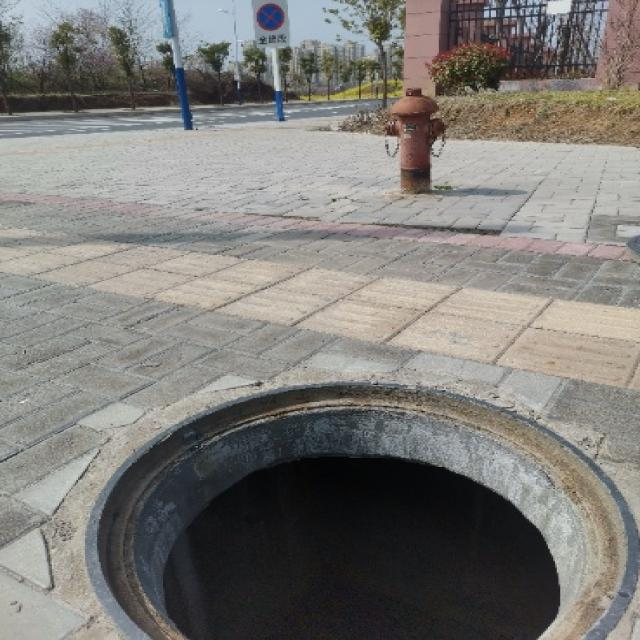Uncovered: (58, 360, 640, 640)
